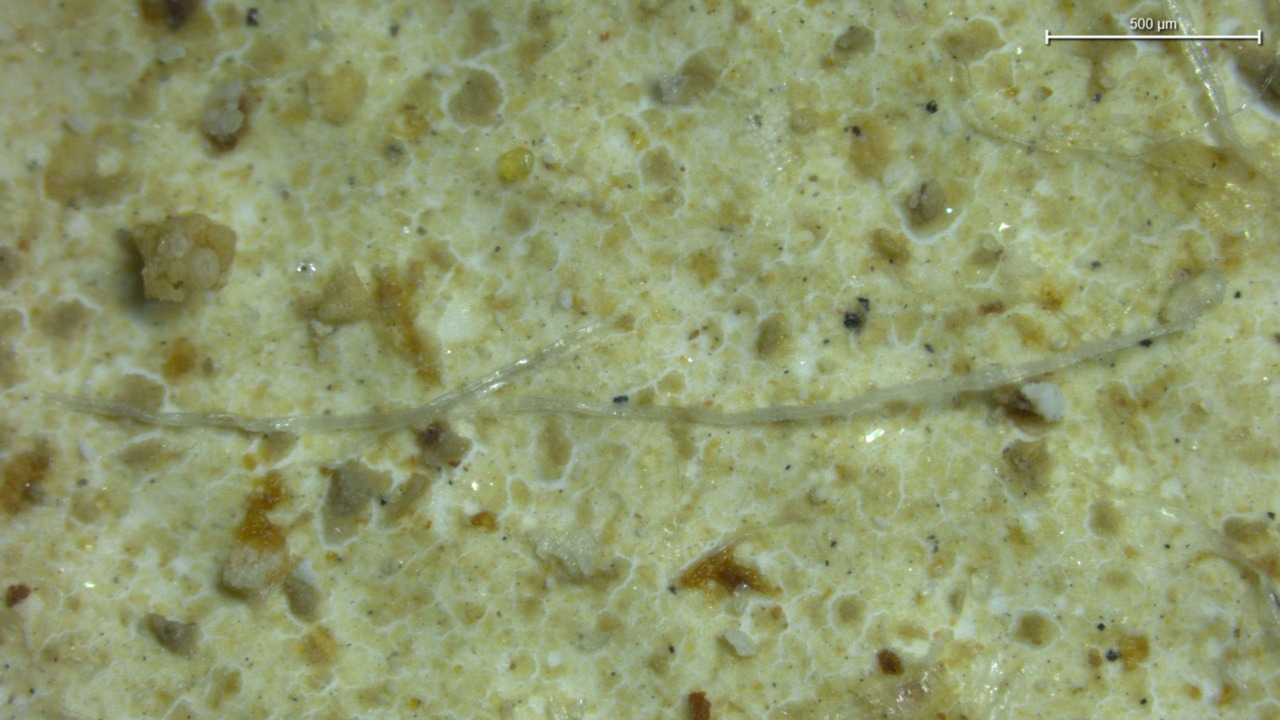microplastic_fragment: (134, 214, 236, 302), (528, 526, 616, 579), (1020, 382, 1065, 422)
